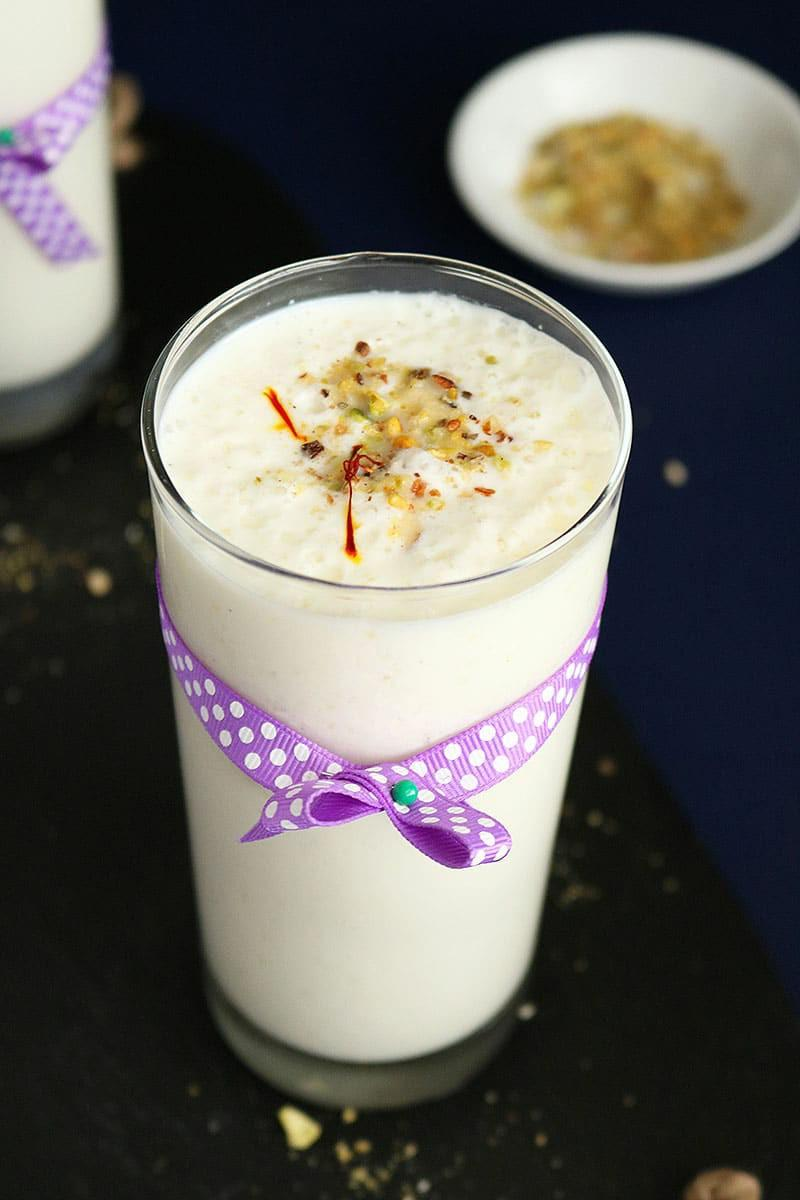Lassi: (171, 302, 620, 1069)
